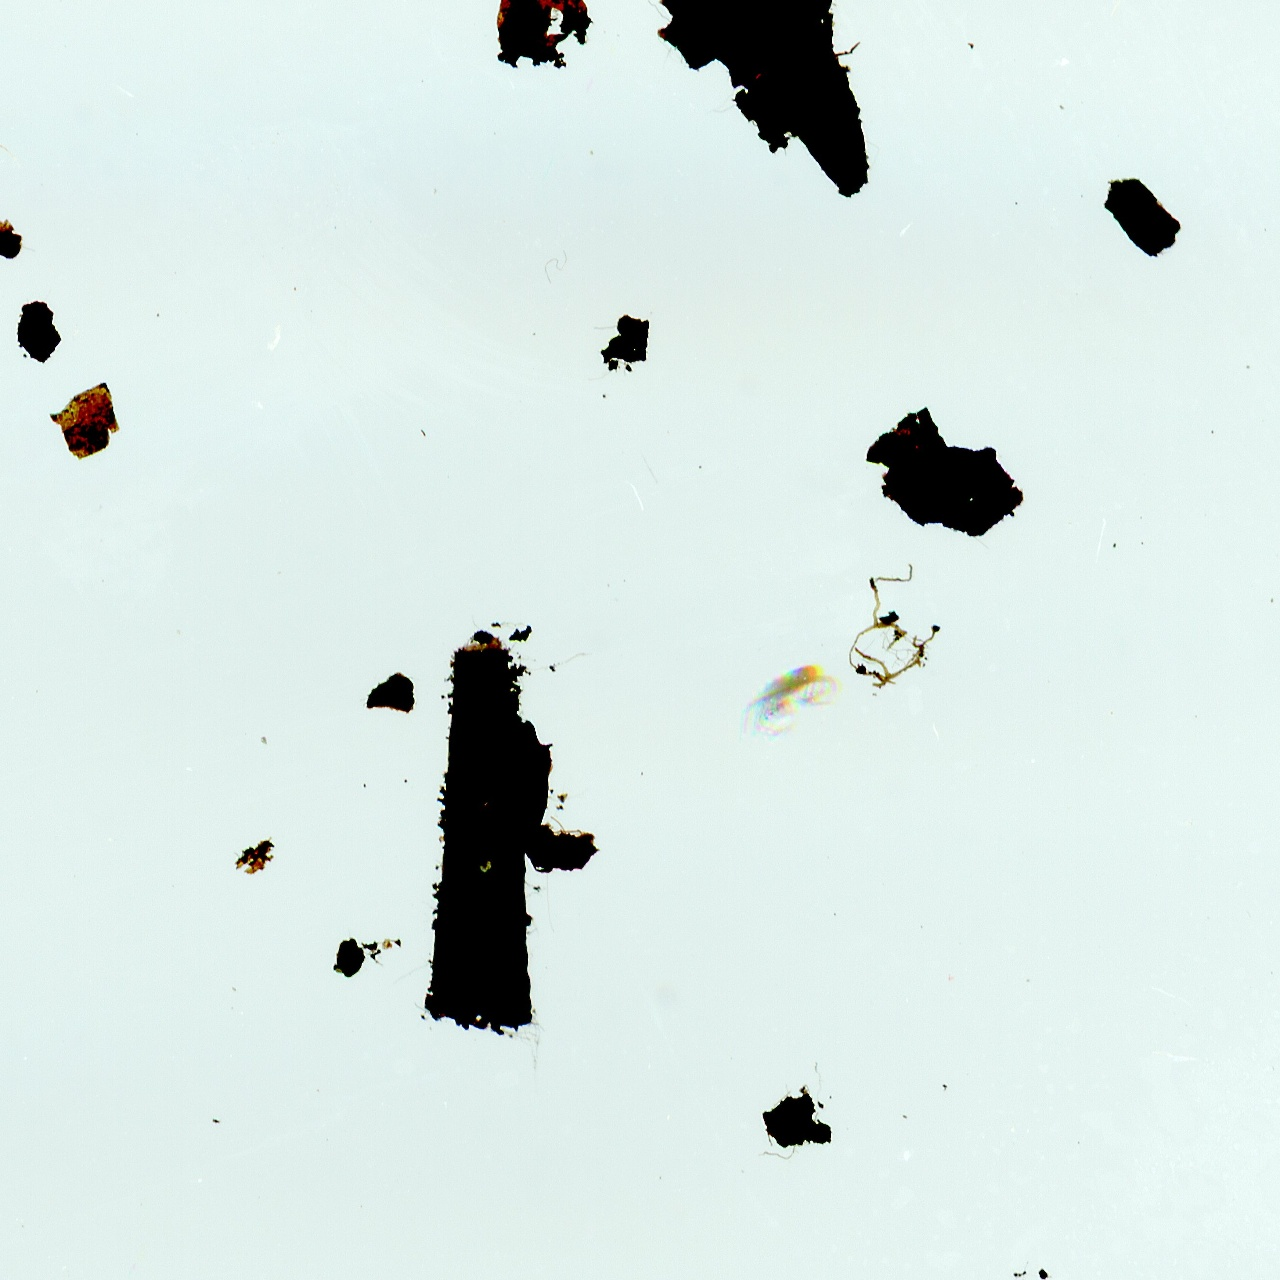arthropod: (737, 659, 839, 738)
